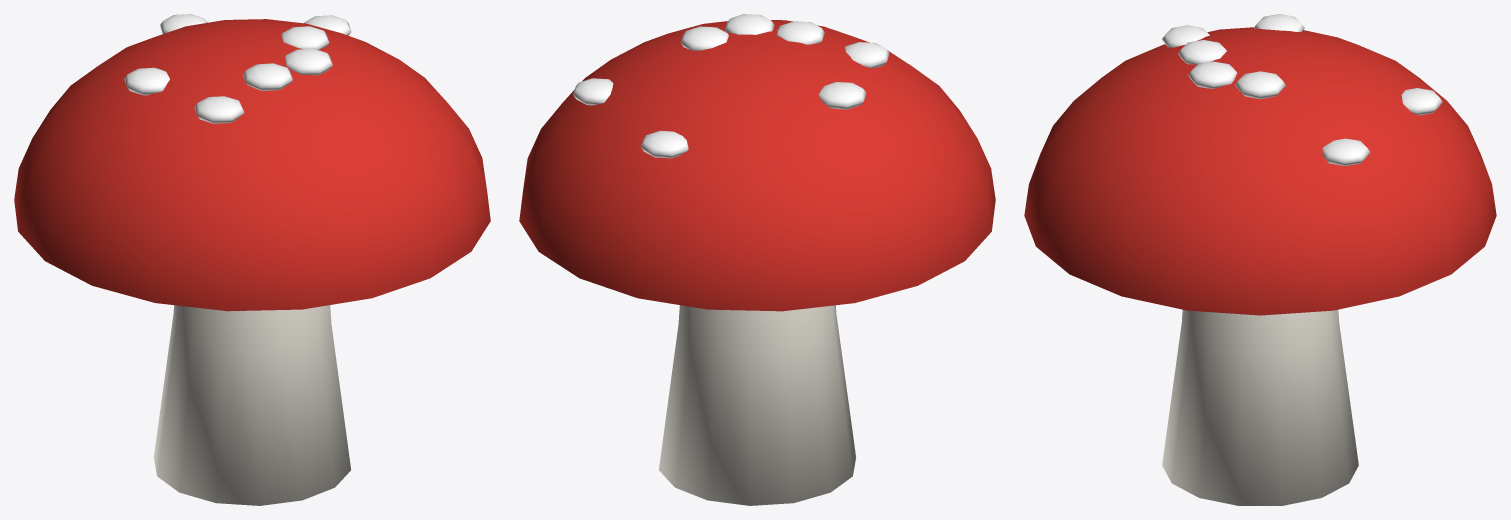
File: mantar.glb
3 views of the same model, side by side, from view 1: azimuth 30°, elevation 25°; view 2: azimuth 150°, elevation 25°; view 3: azimuth 270°, elevation 25° (orthographic).
Visible parts, largest first — view 1: mantar-kirmizi; view 2: mantar-kirmizi; view 3: mantar-kirmizi.
Boxes of the visible parts, x1,y1,x2,y2 form: mantar-kirmizi: (14,14,490,505); mantar-kirmizi: (519,14,995,505); mantar-kirmizi: (1024,14,1496,505).
Bounding box in the file's own units: 0.24 × 0.2323 × 0.24.
